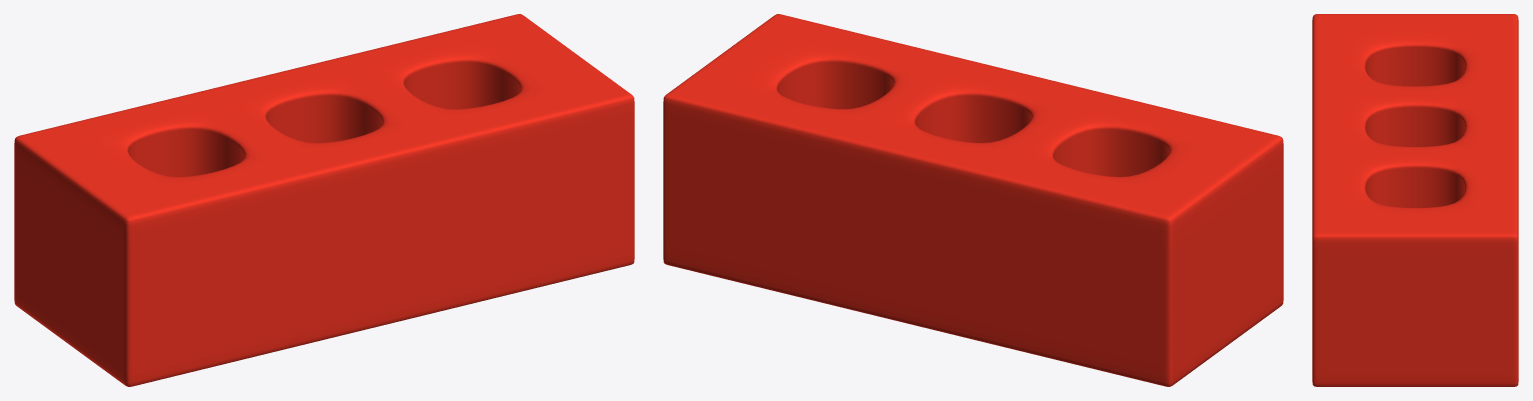
3 renders of one model, left to right at view 1: azimuth 30°, elevation 25°; view 2: azimuth 150°, elevation 25°; view 3: azimuth 270°, elevation 25°, orthographic. The views are drawn at different scales.
Parts seen in each view (by area): view 1: Brick; view 2: Brick; view 3: Brick.
Boxes of the visible parts, bbox=[...] form: Brick: bbox=[14, 14, 634, 386]; Brick: bbox=[663, 14, 1283, 386]; Brick: bbox=[1312, 14, 1518, 386].
Bounding box in the file's own units: 200 × 63.75 × 78.21.
